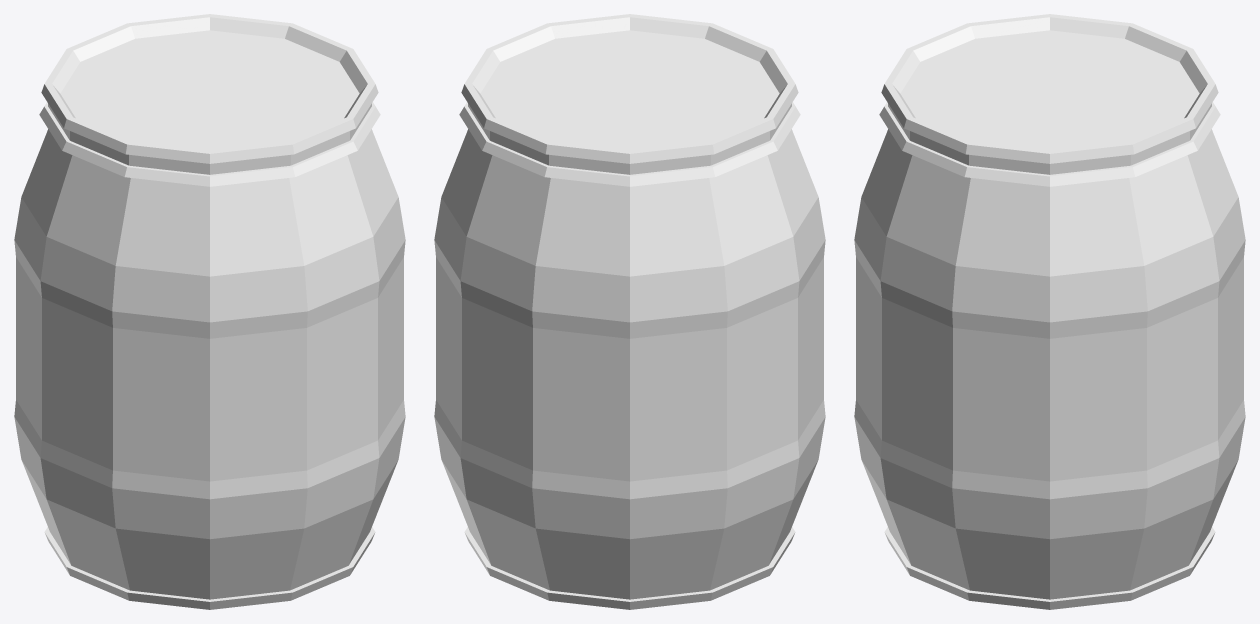
The model's file is Prop_Water_Barrel_01.glb.
The picture shows the model from 3 angles, left to right: view 1: azimuth 30°, elevation 25°; view 2: azimuth 150°, elevation 25°; view 3: azimuth 270°, elevation 25°; orthographic projection.
Visible parts, largest first — view 1: Prop_Water Barrel_01; view 2: Prop_Water Barrel_01; view 3: Prop_Water Barrel_01.
Part boxes in pixels (x1,y1,x2,y2): Prop_Water Barrel_01: [14, 14, 405, 609]; Prop_Water Barrel_01: [434, 14, 825, 609]; Prop_Water Barrel_01: [854, 14, 1245, 609].
Bounding box in the file's own units: 0.7143 × 0.9219 × 0.7143.
1 material, 1 textured.
